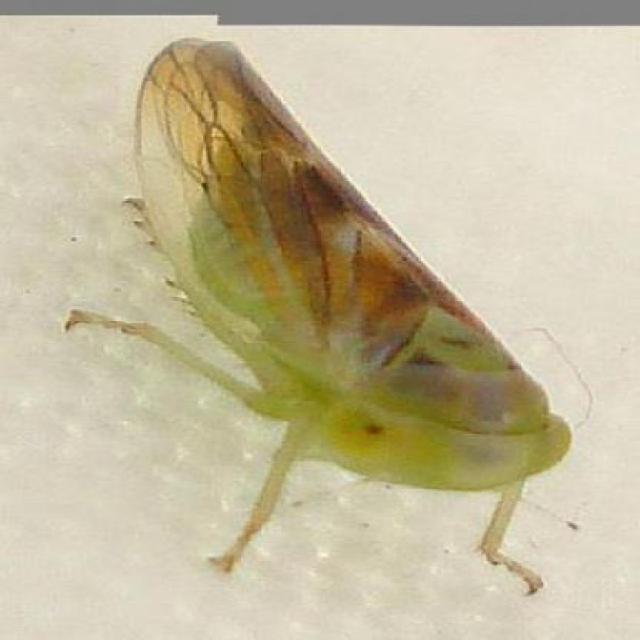green-leafhopper: (128, 34, 578, 518)
